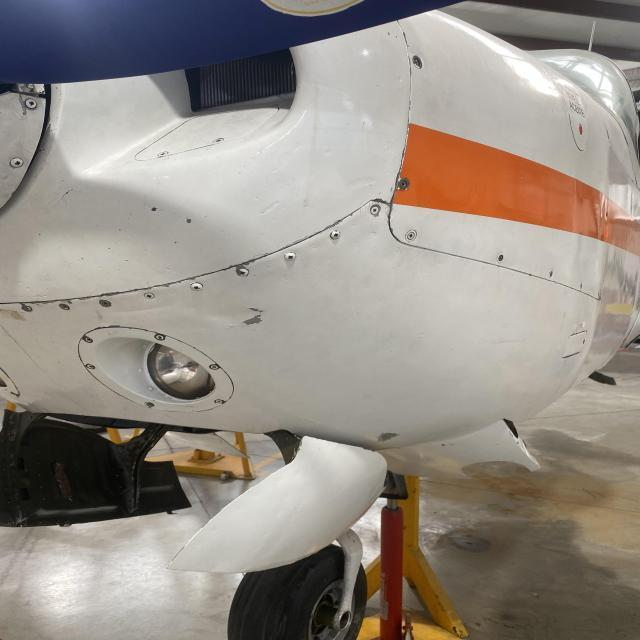Dent: (346, 176, 379, 189), (258, 200, 282, 217), (276, 153, 294, 170), (290, 142, 303, 152), (256, 146, 270, 155), (27, 294, 49, 299), (268, 168, 285, 174), (323, 148, 333, 156), (163, 266, 173, 272), (248, 156, 258, 162), (270, 216, 278, 223), (242, 164, 248, 172), (284, 182, 292, 188), (13, 280, 24, 284), (18, 294, 25, 300), (214, 156, 221, 162), (116, 239, 124, 244), (213, 172, 219, 178), (225, 199, 233, 203), (142, 249, 148, 254), (304, 204, 310, 209), (25, 286, 32, 290), (253, 196, 260, 200), (248, 210, 255, 214), (266, 154, 273, 158), (218, 229, 223, 234), (116, 254, 122, 258), (126, 234, 132, 238), (134, 260, 140, 264), (152, 268, 158, 272), (58, 276, 64, 280), (134, 251, 139, 255), (217, 248, 222, 252), (121, 276, 126, 280), (282, 206, 286, 211), (137, 275, 143, 278), (117, 268, 121, 272), (23, 276, 27, 280), (39, 278, 43, 282), (98, 266, 103, 269), (36, 268, 40, 270)
